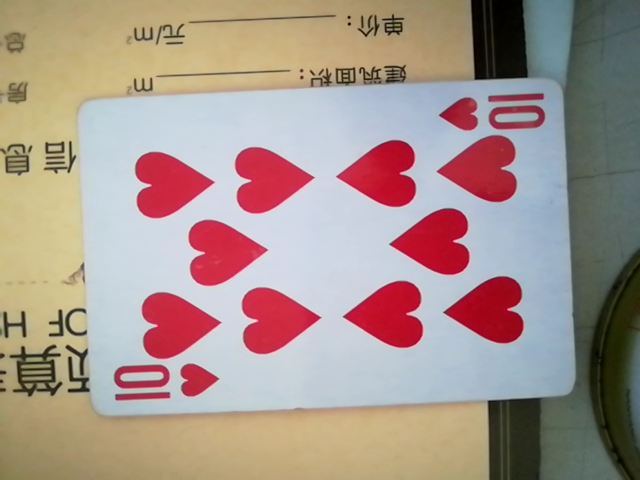hx 10: (79, 78, 565, 418)
